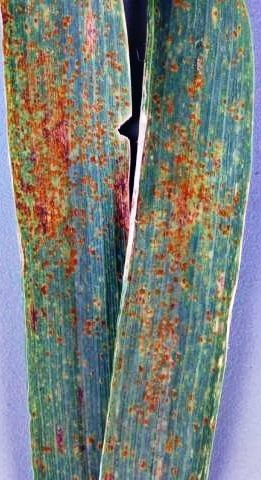Leaf Rust: (123, 52, 261, 455), (11, 38, 132, 342)
